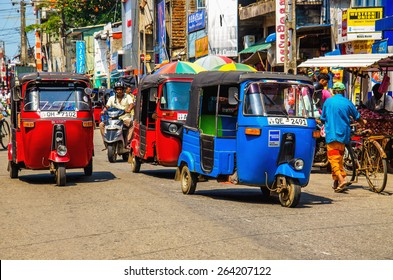motorbike: (97, 102, 133, 162)
threewheel: (177, 70, 320, 207), (7, 72, 96, 187), (129, 73, 194, 173)
